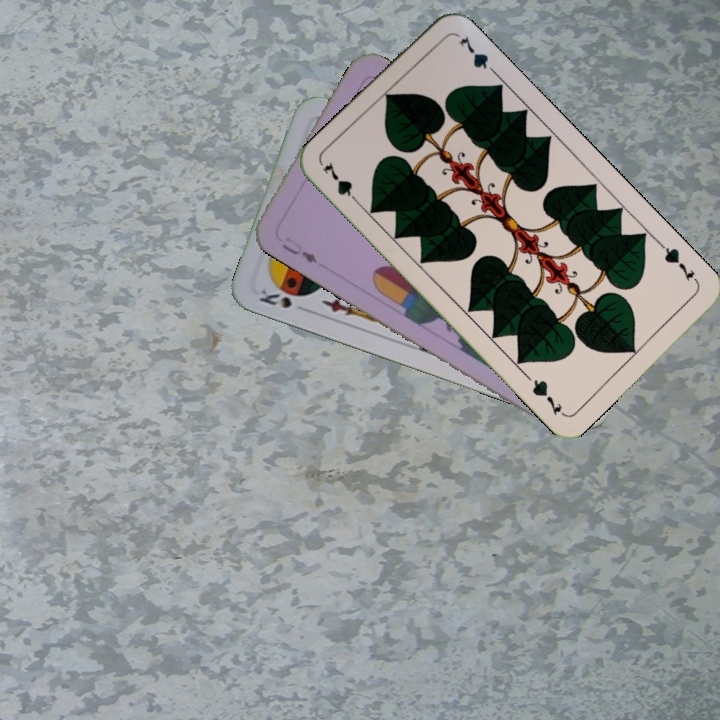EU: (278, 233, 320, 266)
G7: (318, 157, 364, 209), (656, 239, 701, 286)
SK: (255, 284, 294, 311)
